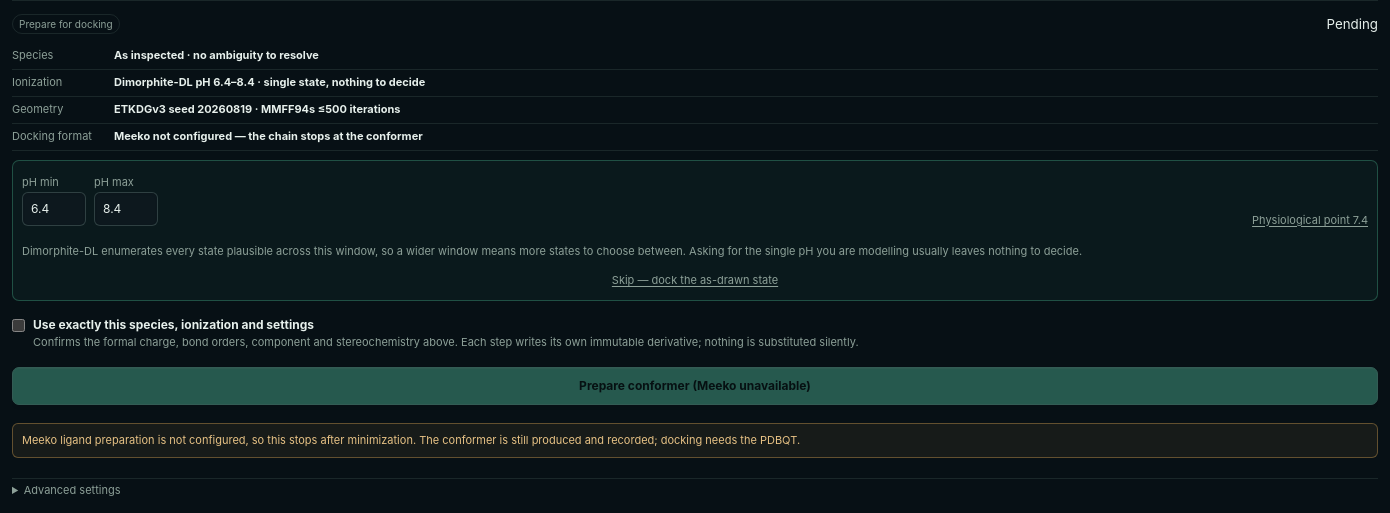
Test: still prepares the conformer when Meeko is unavailable
The width and height of the screenshot is (1390, 513).
Click the checkbox labelled "Use exactly this species": click(18, 326) [12,319,25,332]
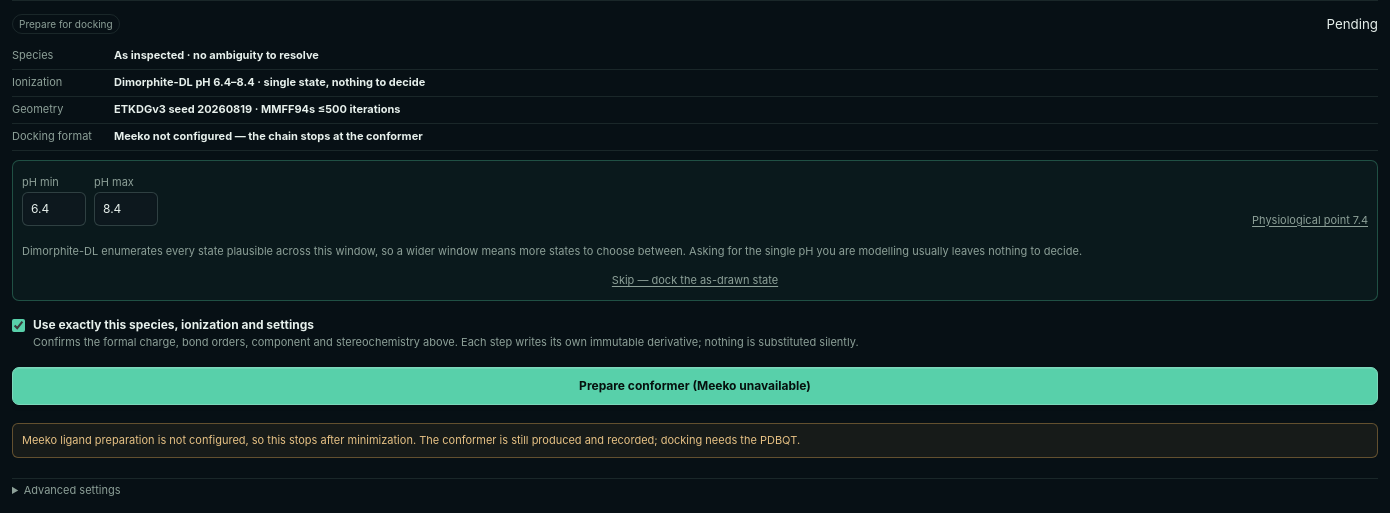
Expected: the text "stops after minimization" is shown, [22,432,800,446]
Expected: the button "Prepare conformer (Meeko unavailable)" is enabled, [12,366,1378,404]
